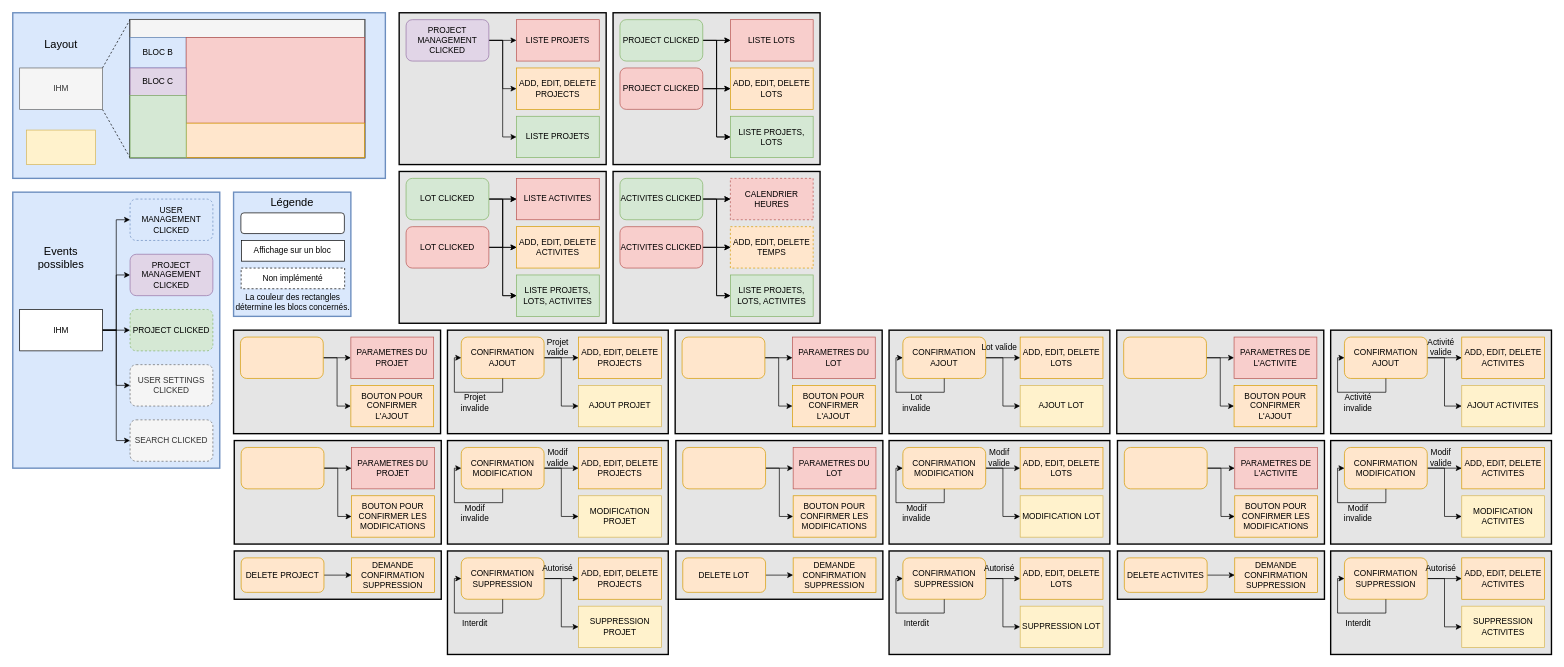
The diagram is 1564 pixels wide and 667 high, and some of its shapes have lost their labels. Each missing label, with the centre of its shape:
ADD ACTIVITES: pixel 1164 357
ADD LOT: pixel 723 357
ADD PROJECT: pixel 281 357
BACKEND: pixel 61 147
BLOC A: pixel 247 28
BLOC D: pixel 157 126
BLOC E: pixel 275 80
BLOC F: pixel 275 140
EDIT ACTIVITES: pixel 1165 468
EDIT LOT: pixel 724 468
EDIT PROJECT: pixel 282 468
Event détecté: pixel 292 223
